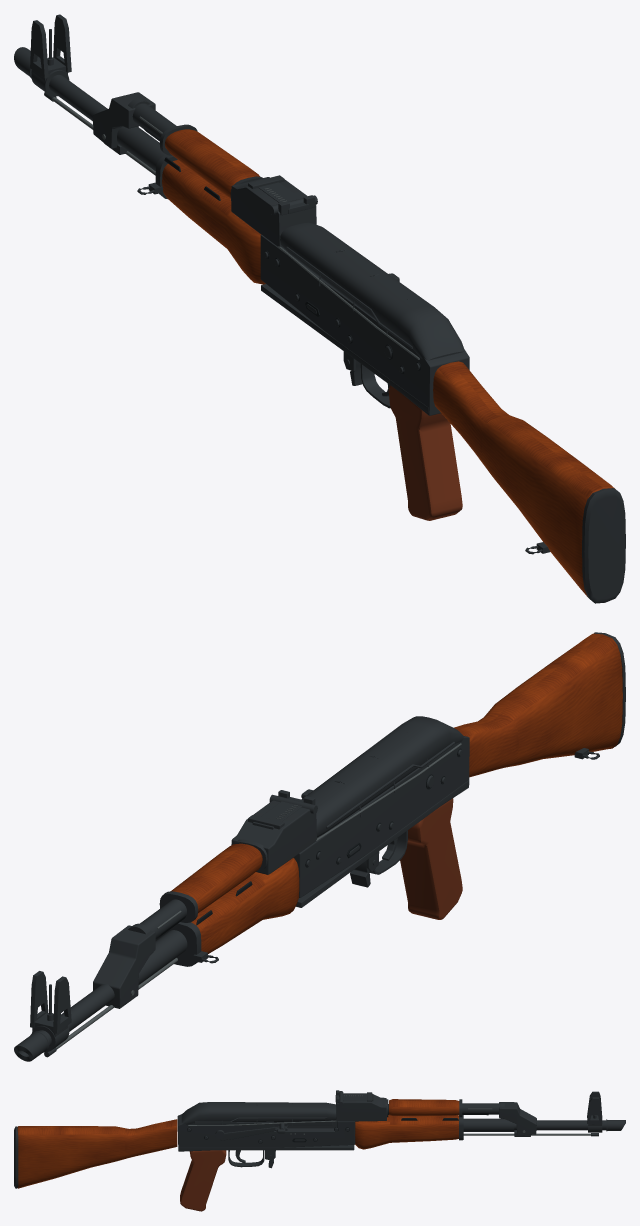
Rendered from akm.fbx.
The picture shows the model from 3 angles, top to bottom: view 1: azimuth 30°, elevation 25°; view 2: azimuth 150°, elevation 25°; view 3: azimuth 270°, elevation 25°; orthographic projection. The views are drawn at different scales.
Visible parts, largest first — view 1: weapon_akm; view 2: weapon_akm; view 3: weapon_akm.
Part boxes in pixels (x1,y1,x2,y2): weapon_akm: [14, 14, 625, 603]; weapon_akm: [14, 632, 625, 1061]; weapon_akm: [14, 1090, 625, 1211].
Bounding box in the file's own units: 7.4 × 17.99 × 88.
5 materials, 1 textured.
